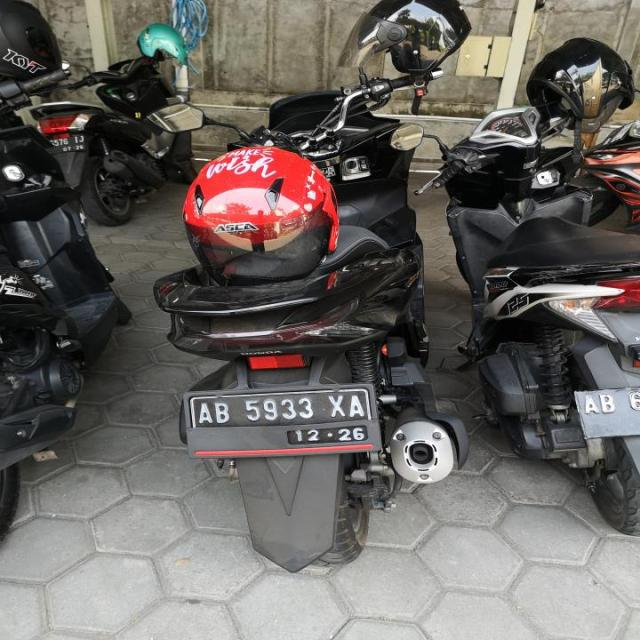License Plate: (183, 382, 385, 457)
